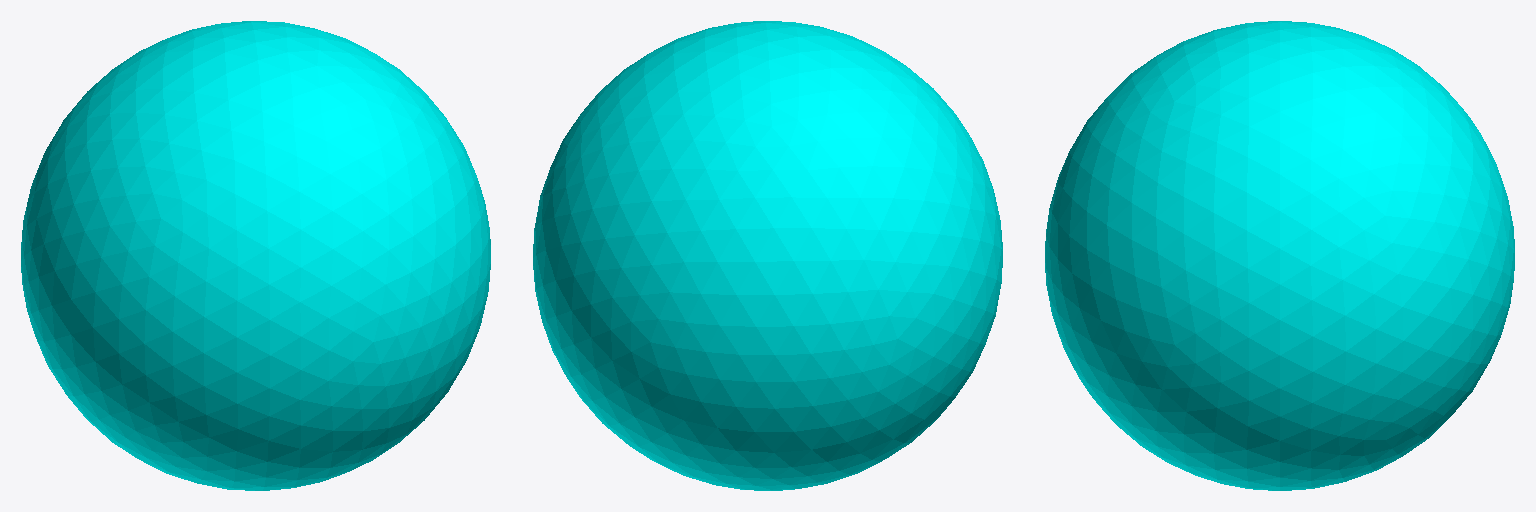
File: buoy_test.obj
3 views of the same model, side by side, from view 1: azimuth 30°, elevation 25°; view 2: azimuth 150°, elevation 25°; view 3: azimuth 270°, elevation 25° (orthographic).
Visible parts, largest first — view 1: 2_Icosphere.002; view 2: 2_Icosphere.002; view 3: 2_Icosphere.002.
Boxes of the visible parts, <box> form: 2_Icosphere.002: <box>21,21,490,490</box>; 2_Icosphere.002: <box>533,21,1002,490</box>; 2_Icosphere.002: <box>1045,21,1514,490</box>.
Bounding box in the file's own units: 0.4572 × 0.4572 × 0.4572.